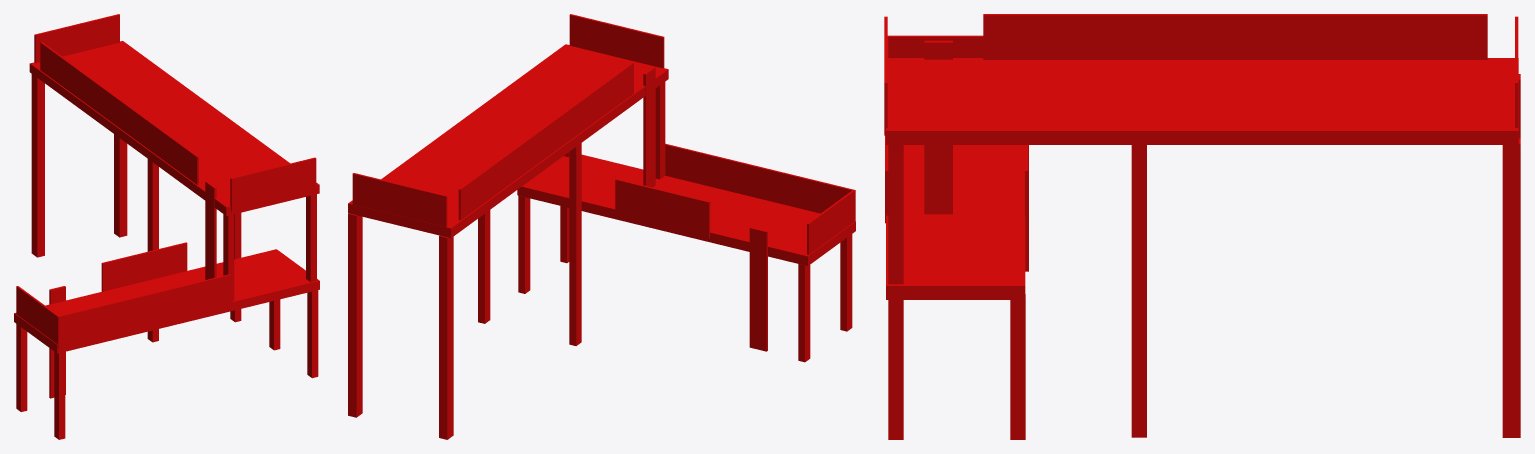
File: SM_Bld_IndustrialWalkway_Preset_Large_01_Collision.fbx
3 renders of one model, left to right at view 1: azimuth 30°, elevation 25°; view 2: azimuth 150°, elevation 25°; view 3: azimuth 270°, elevation 25°, orthographic. The views are drawn at different scales.
Visible parts, largest first — view 1: SM_Bld_IndustrialWalkway_Preset_Large_01_Collision; view 2: SM_Bld_IndustrialWalkway_Preset_Large_01_Collision; view 3: SM_Bld_IndustrialWalkway_Preset_Large_01_Collision.
Part boxes in pixels (x1,y1,x2,y2): SM_Bld_IndustrialWalkway_Preset_Large_01_Collision: (14,14,319,439); SM_Bld_IndustrialWalkway_Preset_Large_01_Collision: (348,14,855,439); SM_Bld_IndustrialWalkway_Preset_Large_01_Collision: (884,14,1520,439).
Bounding box in the file's own units: 888 × 711 × 1159.
